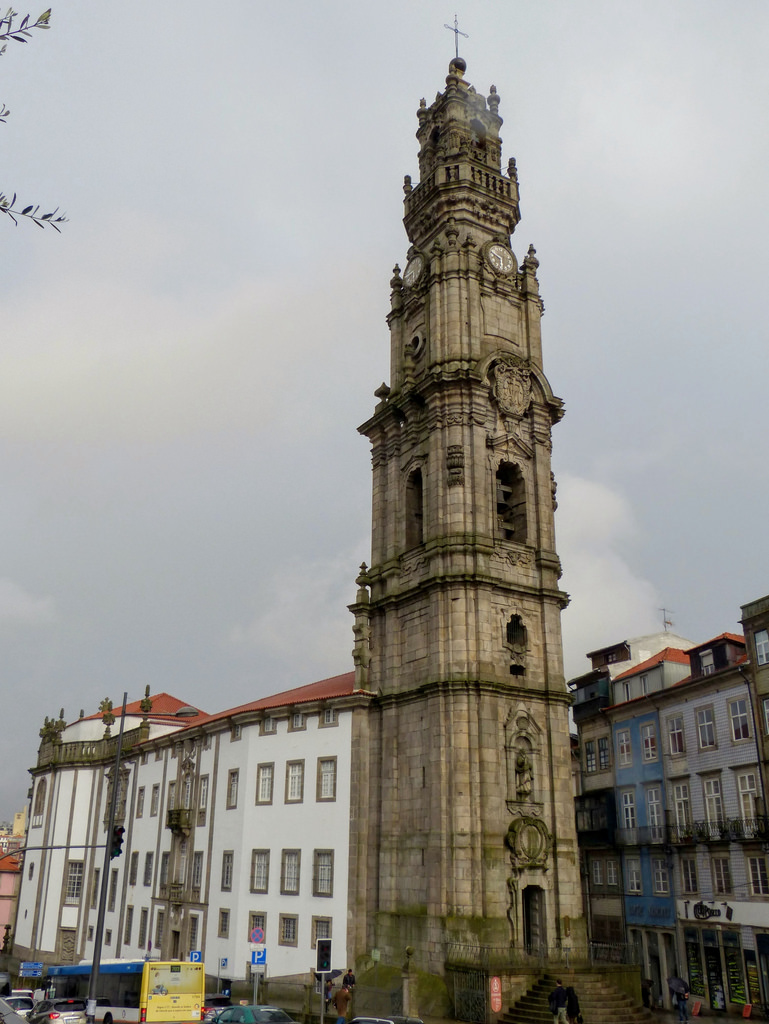clerigos: (346, 10, 588, 963)
